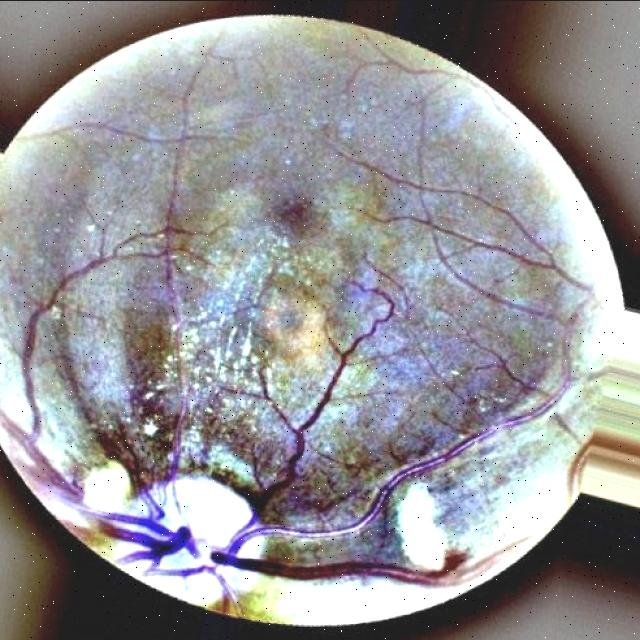Nerves: (0, 358, 561, 594)
Optic Disk: (101, 475, 265, 606)
